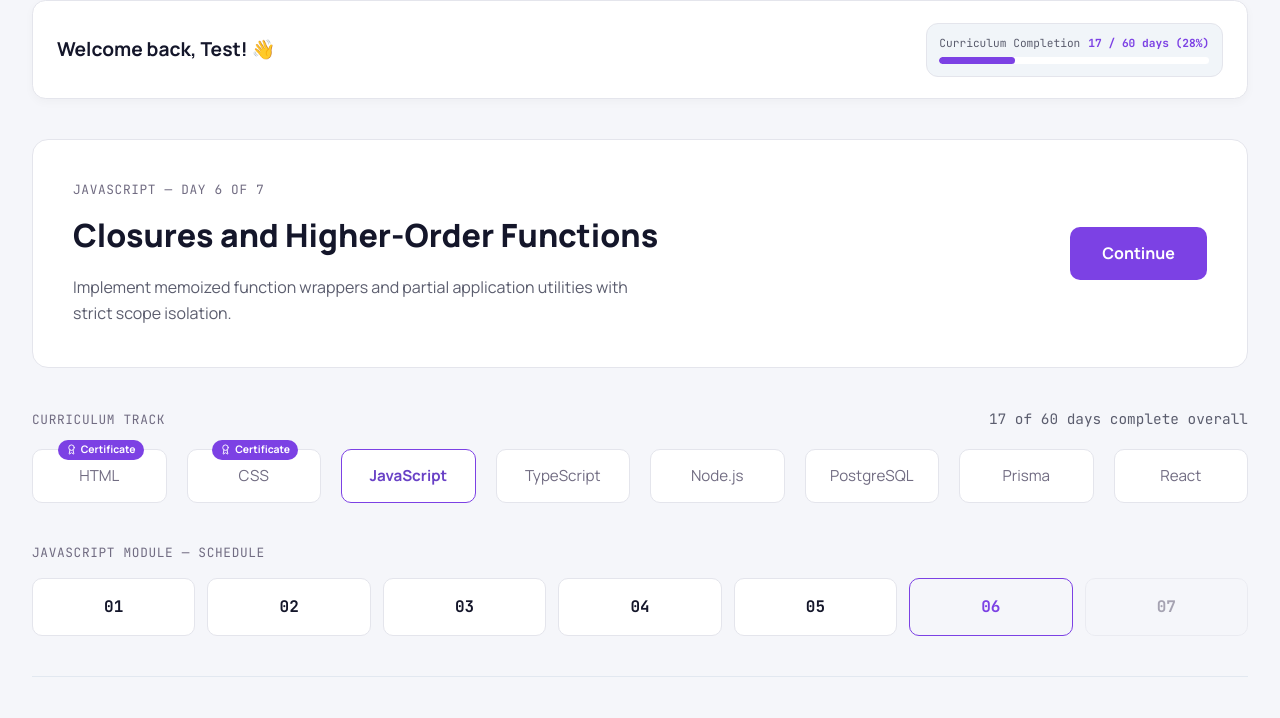
Test case: DashboardPage › loads the days of another course when its tab is selected
Expected: the text "JavaScript Module — Schedule" is shown, [32,544,265,561]
Click the tab "Node.js": (717, 476) [650,449,784,503]
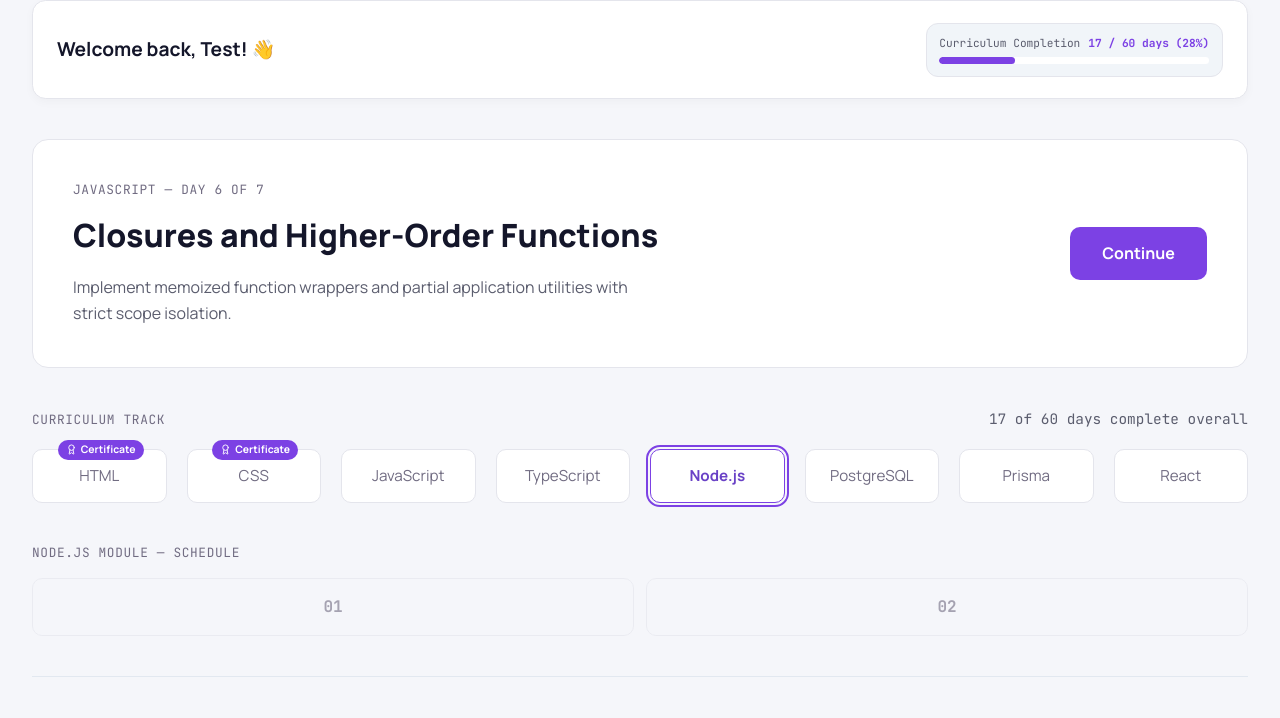
Expected: the button "01" is shown, [32,578,634,636]
Expected: the text "Node.js Module — Schedule" is shown, [32,544,240,561]
